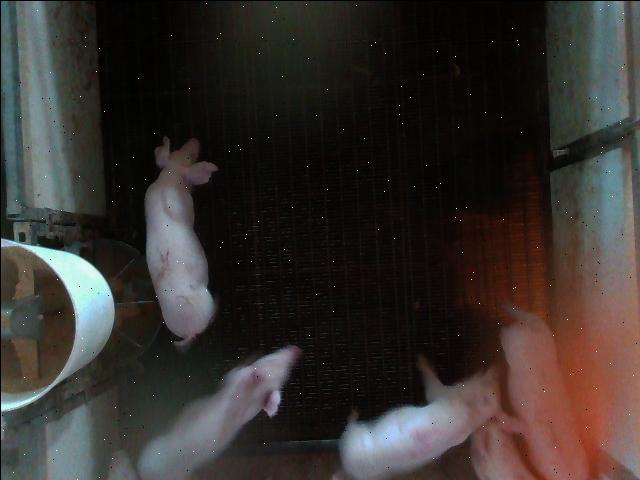pig-3: (496, 304, 588, 479)
pig-4: (339, 356, 499, 479)
